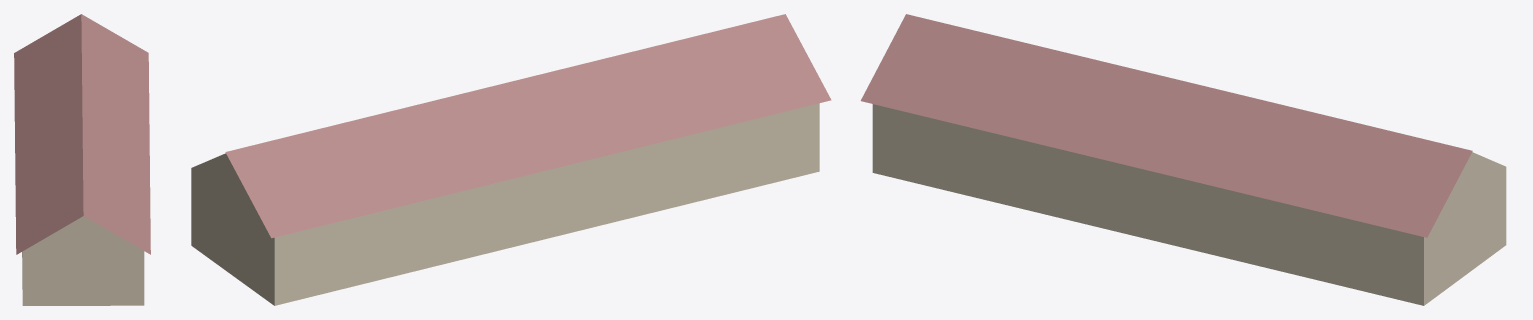
The picture shows the model from 3 angles, left to right: view 1: azimuth 30°, elevation 25°; view 2: azimuth 150°, elevation 25°; view 3: azimuth 270°, elevation 25°; orthographic projection. The views are drawn at different scales.
Parts seen in each view (by area): view 1: tuile; view 2: tuile; view 3: tuile.
Part boxes in pixels (box(x1,y1,x2,y2)): tuile: box(14, 14, 150, 305); tuile: box(191, 14, 831, 305); tuile: box(860, 14, 1506, 305).
Bounding box in the file's own units: 19.16 × 5.53 × 26.07.
